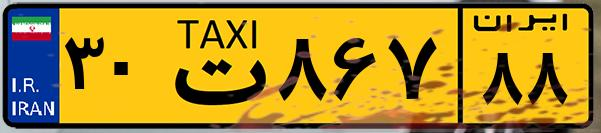0: (110, 28, 158, 98)
3: (57, 26, 110, 100)
6: (330, 28, 385, 110)
7: (385, 28, 445, 110)
8: (270, 28, 330, 110), (475, 38, 525, 113), (525, 38, 570, 115)
ت: (158, 12, 270, 120)
